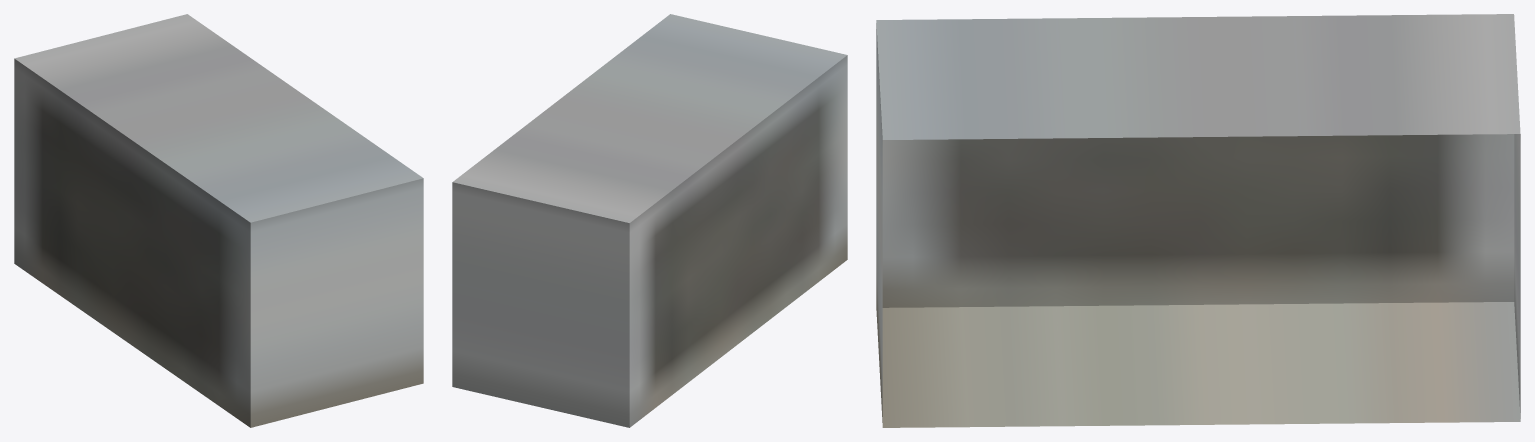
Rendered from object_832_lev3.glb.
3 views of the same model, side by side, from view 1: azimuth 30°, elevation 25°; view 2: azimuth 150°, elevation 25°; view 3: azimuth 270°, elevation 25° (orthographic). The views are drawn at different scales.
Visible parts, largest first — view 1: object_832_lev3; view 2: object_832_lev3; view 3: object_832_lev3.
Boxes of the visible parts, left/top/right/bottom form: object_832_lev3: left=14, top=14, right=423, bottom=427; object_832_lev3: left=452, top=14, right=847, bottom=427; object_832_lev3: left=876, top=14, right=1520, bottom=427.
Bounding box in the file's own units: 0.2912 × 0.31 × 0.6287.
Materials: 1 (1 with a texture image).
